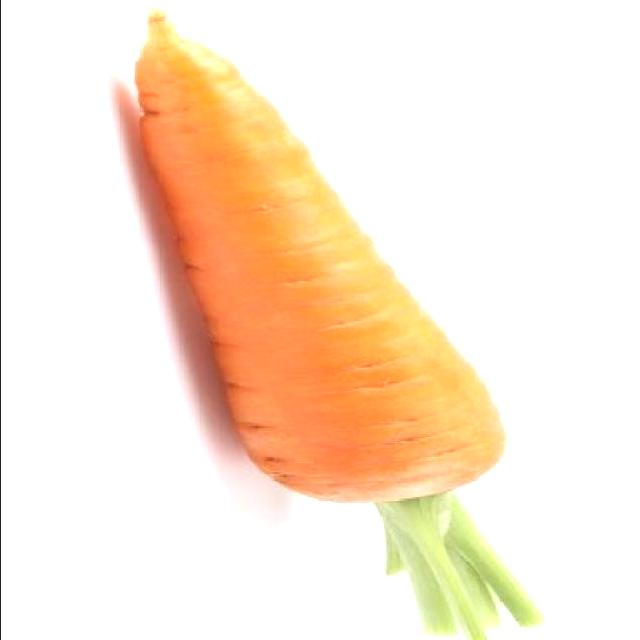carrot: (89, 11, 540, 539)
